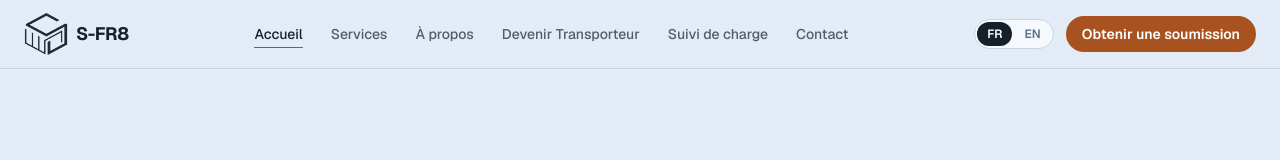
Scenario: Navbar › shows French nav labels by default and switches to English on toggle
expect the link "Accueil" is shown: met, box 254,20 -> 303,48
What coordinates should you click on to do the following:
click the button "EN"
I would click on:
 (1033, 34)
Its box is 1014,22 -> 1051,46.
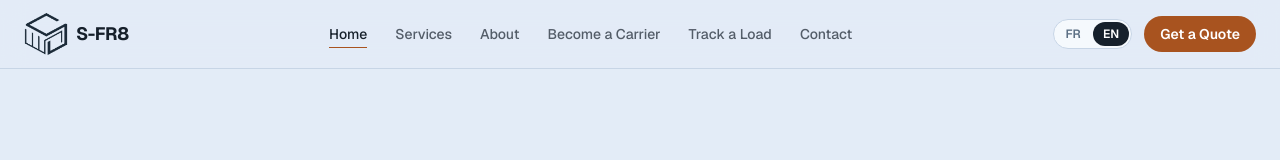
expect the link "Home" is shown: met, box 329,20 -> 367,48
